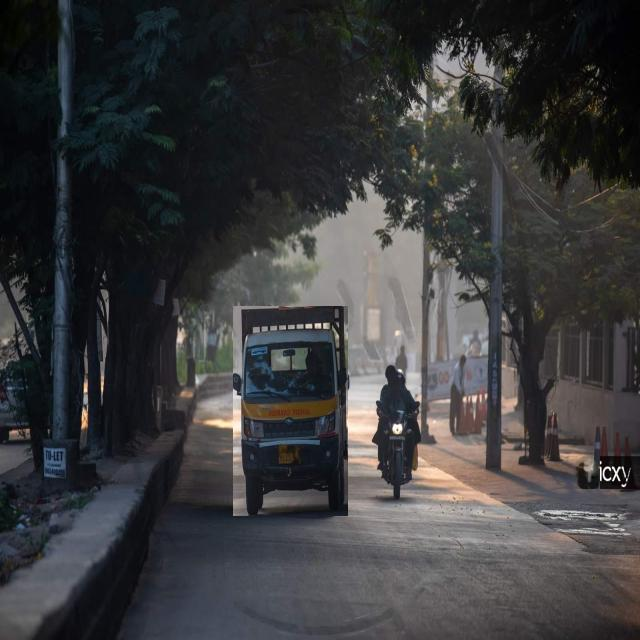motorcycle: (378, 365, 419, 499)
truck: (234, 307, 348, 516)
